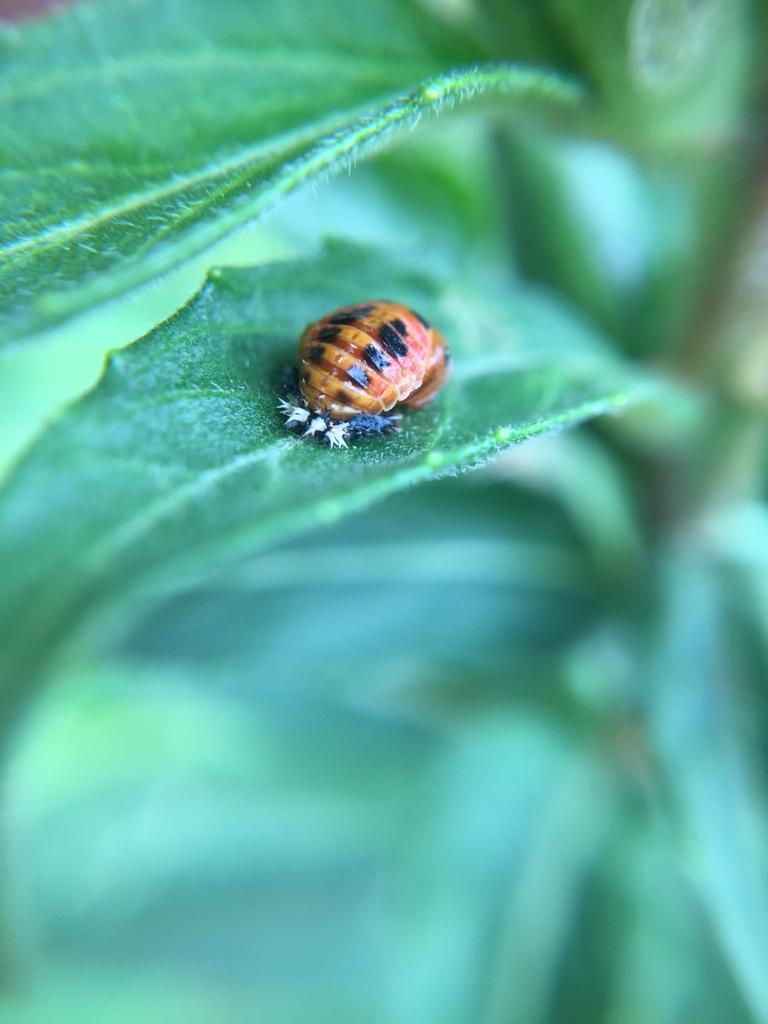ladybug: (272, 294, 457, 454)
